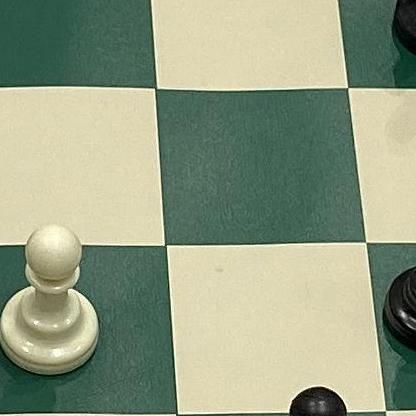black-pawn: (372, 192, 416, 360), (255, 378, 366, 416)
white-pawn: (0, 219, 103, 381)
